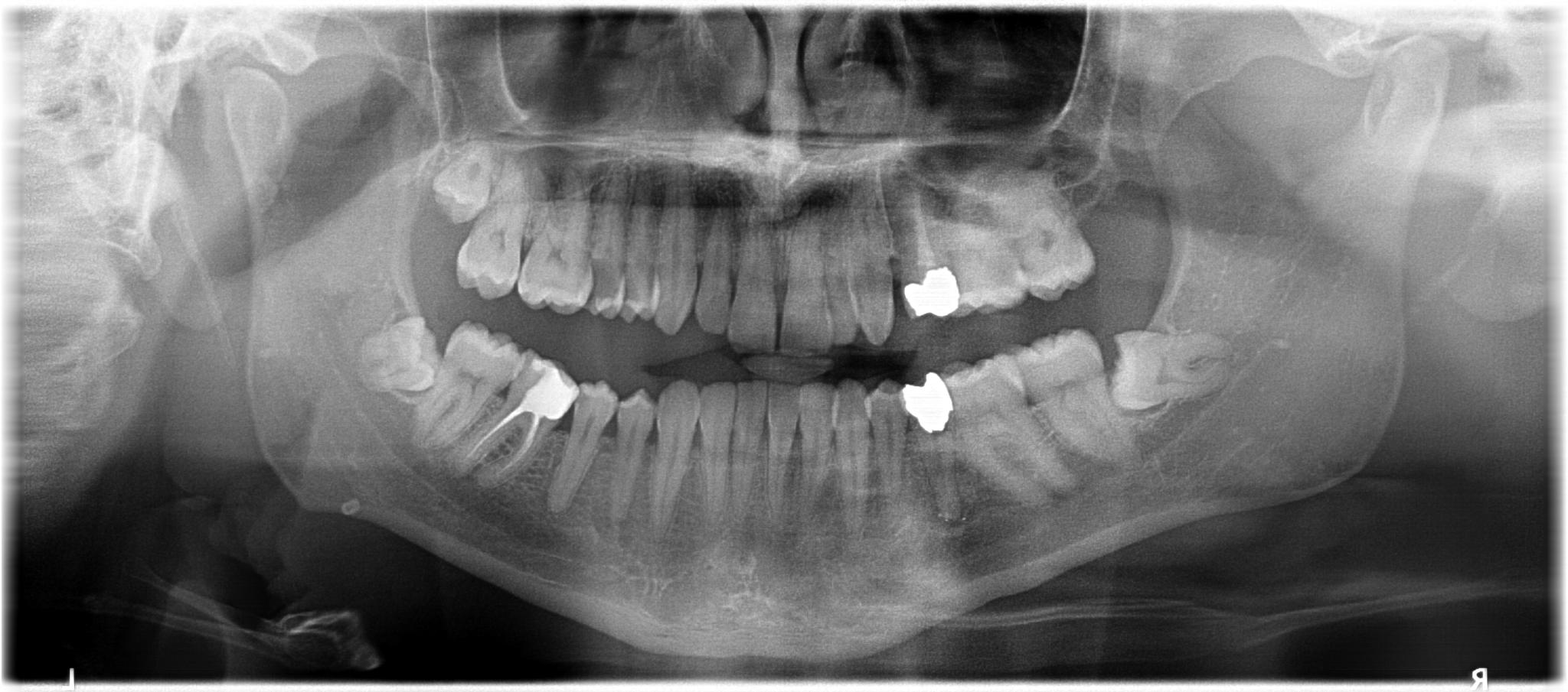Premolars: (484, 195, 1408, 558), (627, 156, 1568, 478), (321, 194, 910, 565), (290, 209, 869, 579), (225, 152, 607, 467), (263, 73, 788, 264), (254, 58, 686, 208)
